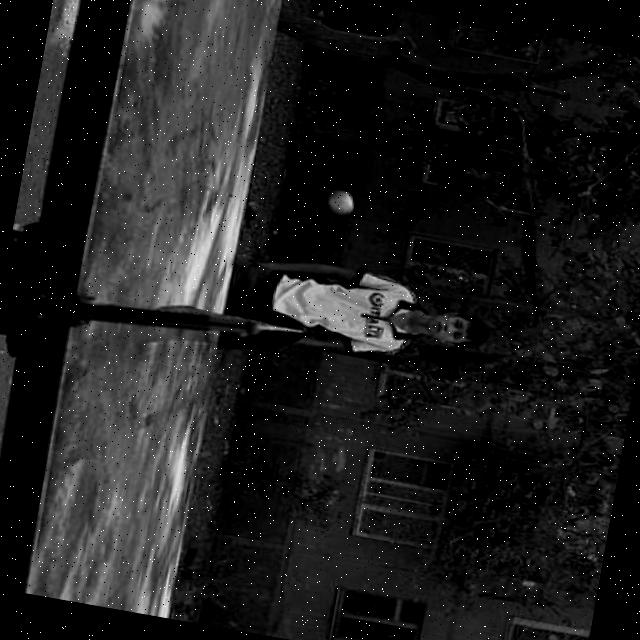ping-pong-ball: (325, 188, 357, 216)
